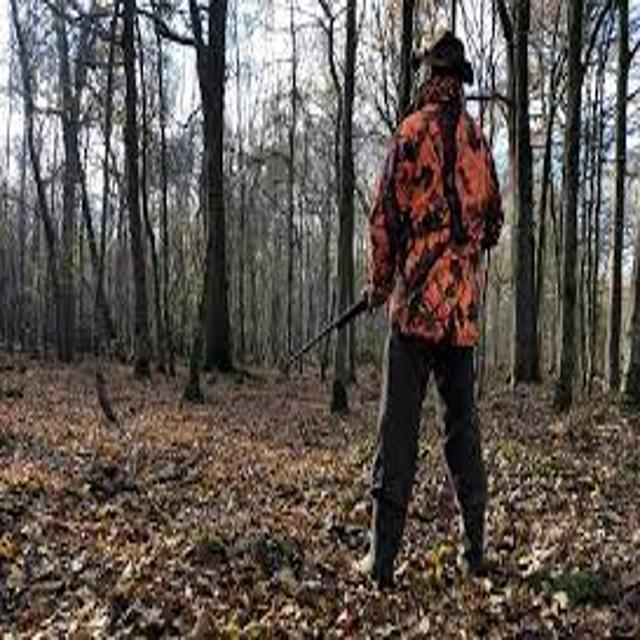gun: (261, 255, 428, 381)
poacher: (292, 16, 553, 615)
